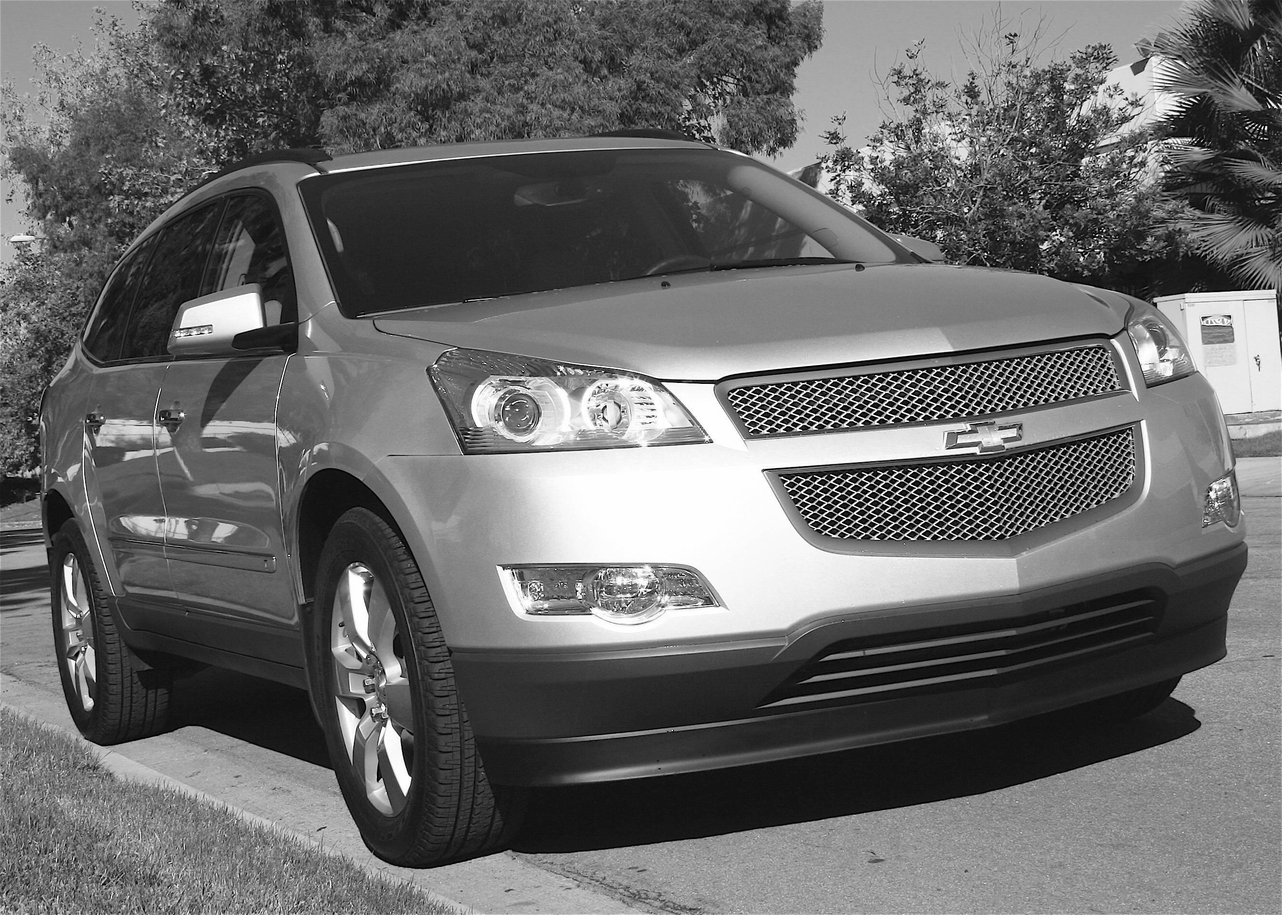car: (35, 128, 1253, 872)
